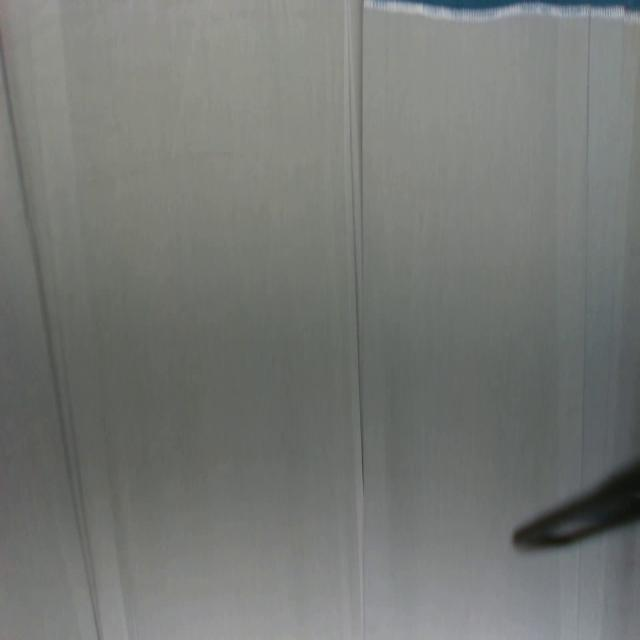crease: (0, 34, 106, 640), (343, 0, 370, 640), (574, 14, 593, 488), (573, 543, 586, 640)
